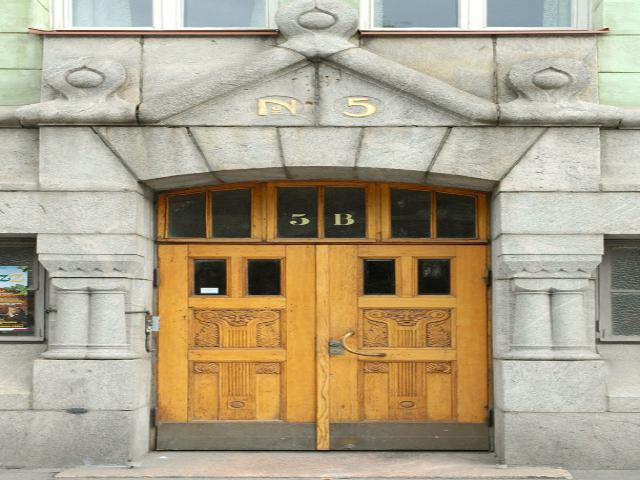Door-handle: (340, 330, 386, 357)
